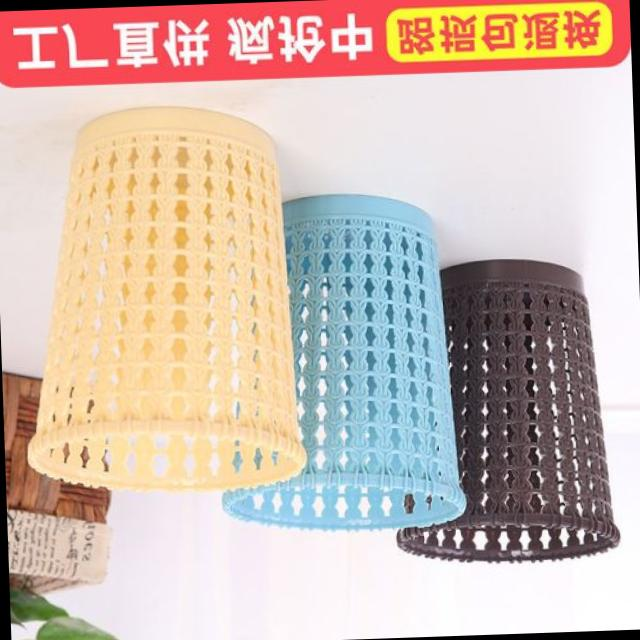dustbin: (9, 99, 311, 502), (208, 184, 472, 538), (382, 251, 624, 572)
